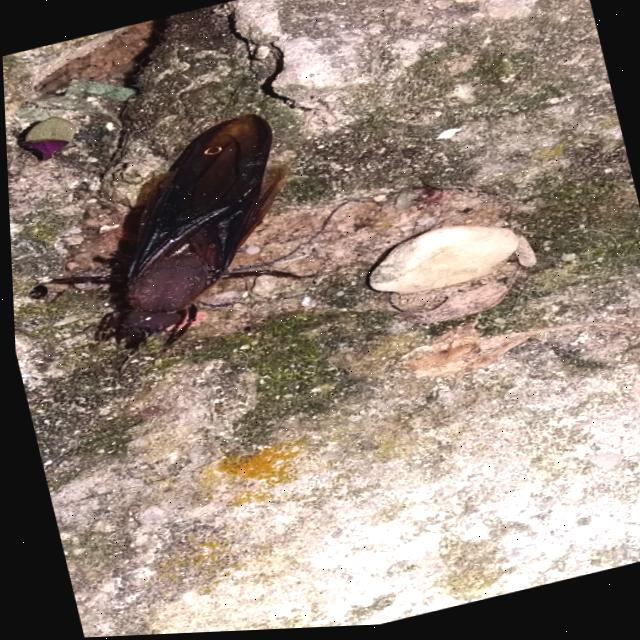Alive-Female-Alate: (11, 107, 330, 375)
